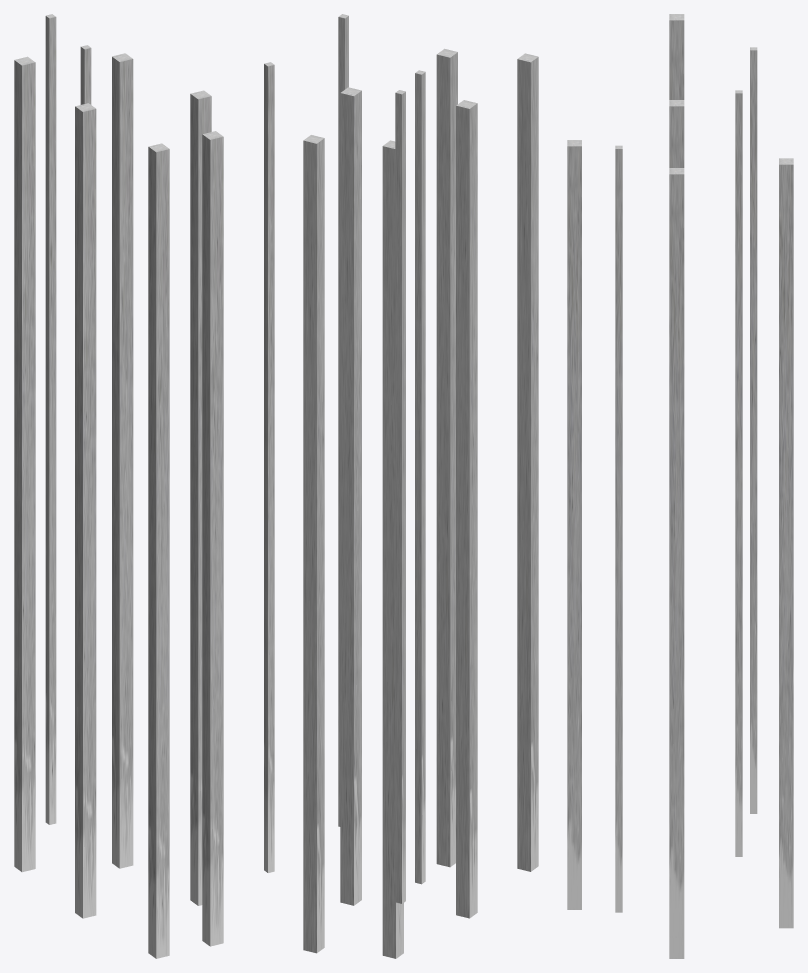
Rendered from mobile.fbx.
3 views of the same model, side by side, from view 1: azimuth 30°, elevation 25°; view 2: azimuth 150°, elevation 25°; view 3: azimuth 270°, elevation 25° (orthographic). The views are drawn at different scales.
Parts seen in each view (by area): view 1: pCube73; view 2: pCube73; view 3: pCube73.
Part boxes in pixels (x1,y1,x2,y2): pCube73: (14, 14, 274, 958); pCube73: (303, 14, 538, 958); pCube73: (567, 14, 793, 958).
Bounding box in the file's own units: 166 × 654 × 153.
Materials: 1 (1 with a texture image).
